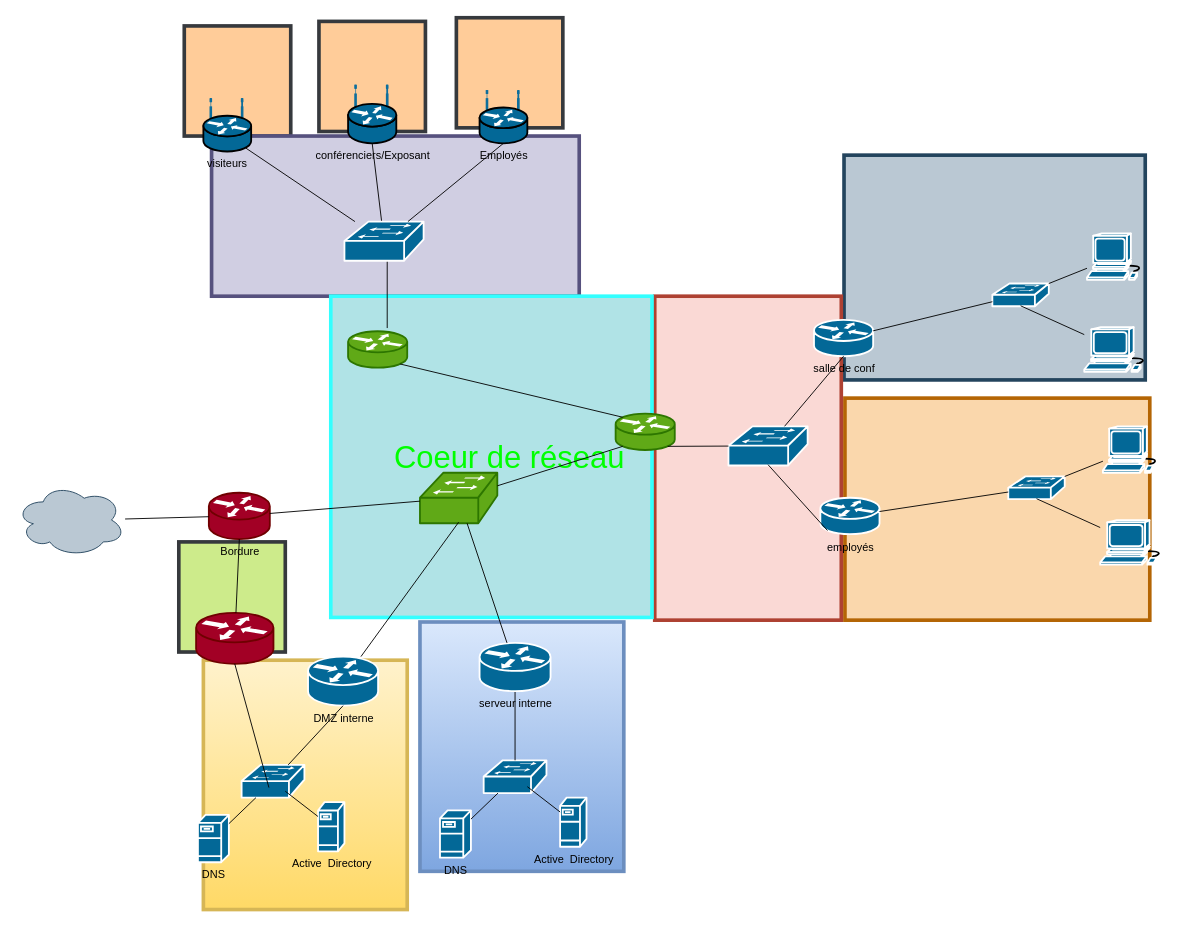
Image size: 1182x926. Some labels were removed from this diagram. Here are the shapes that lost their labels. From the top down, the centre of each, then its label:
At (377,349): "wlan".
At (644,431): "stations".
At (70,519): "Internet".
At (234,638): "DMZ Externe".
